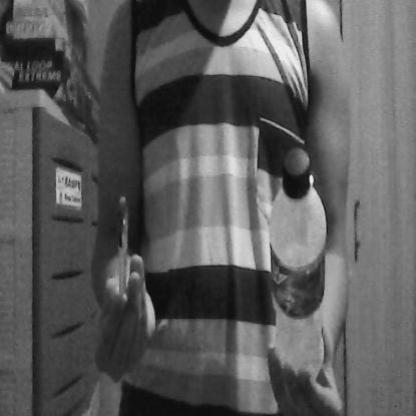Plastic Bottle: (258, 139, 337, 394)
